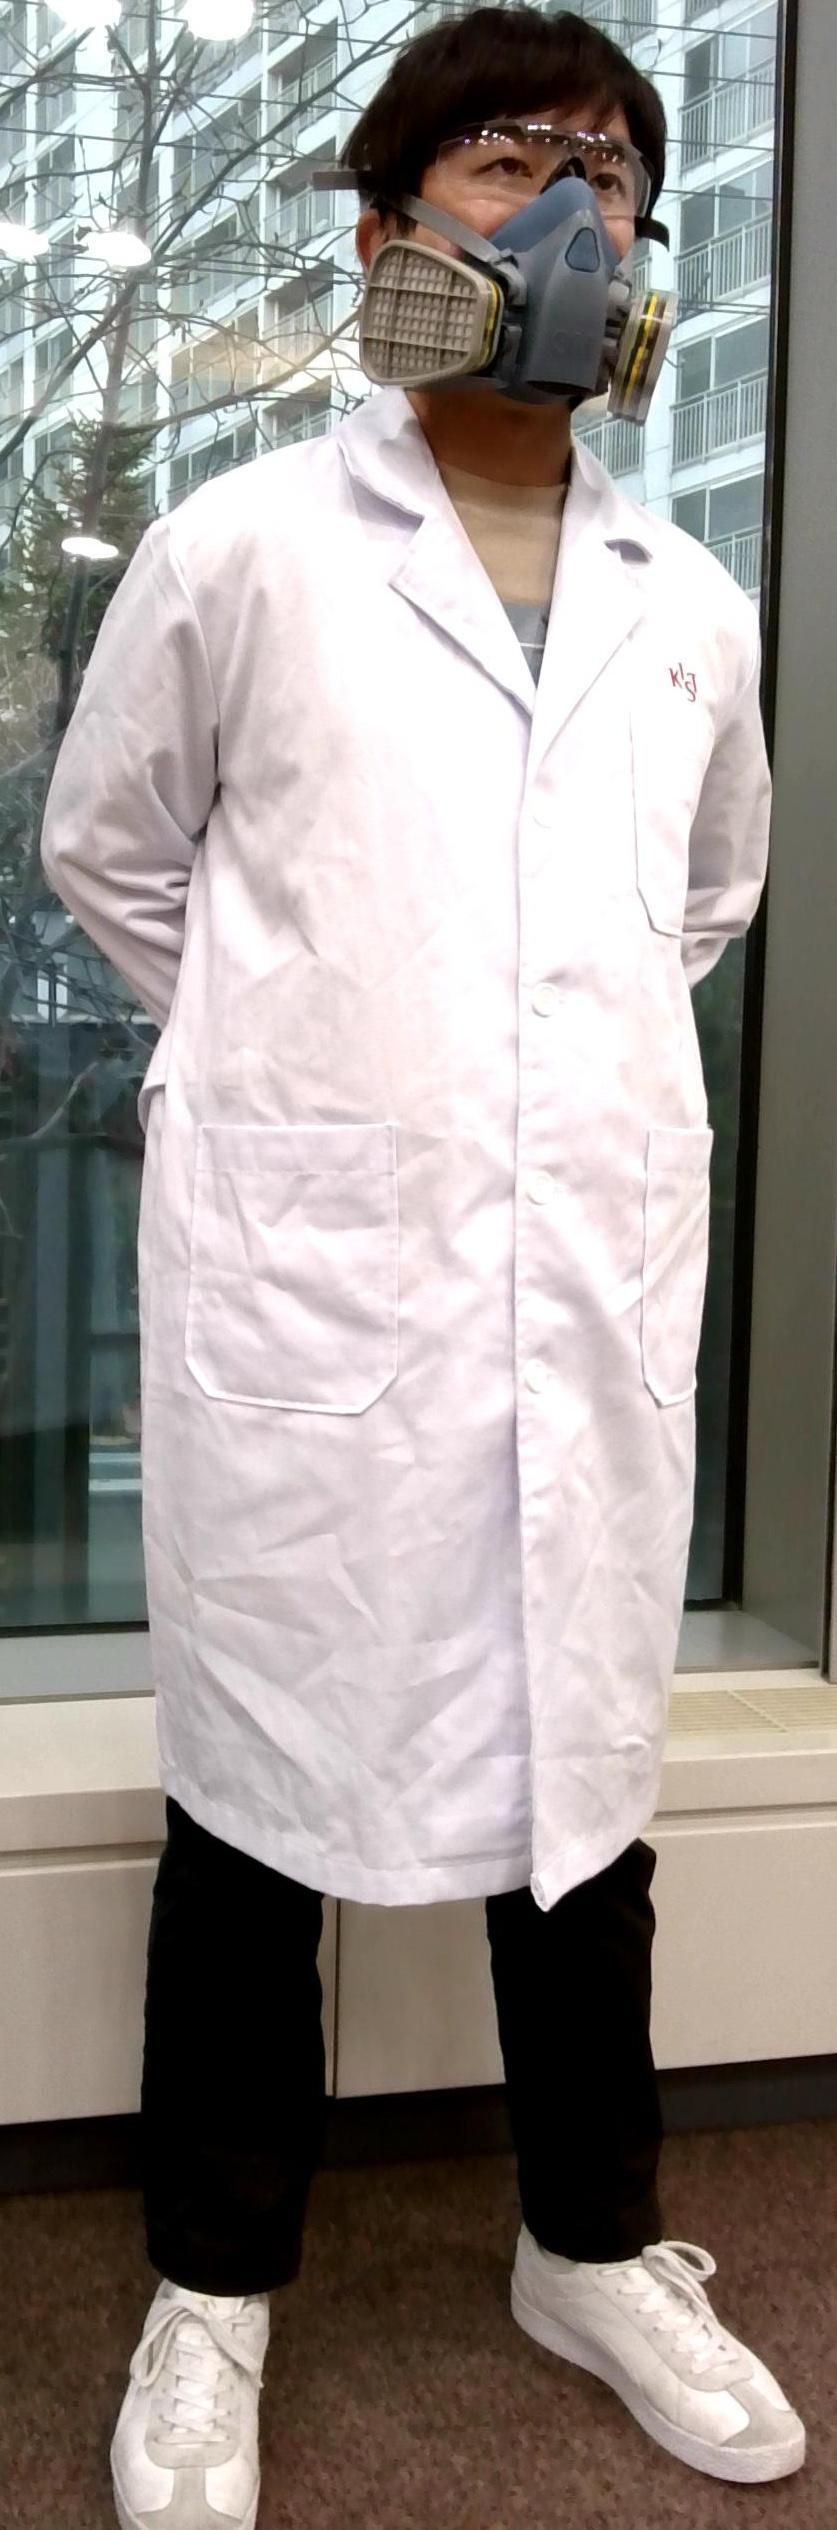lab_coat: (47, 481, 782, 1857)
